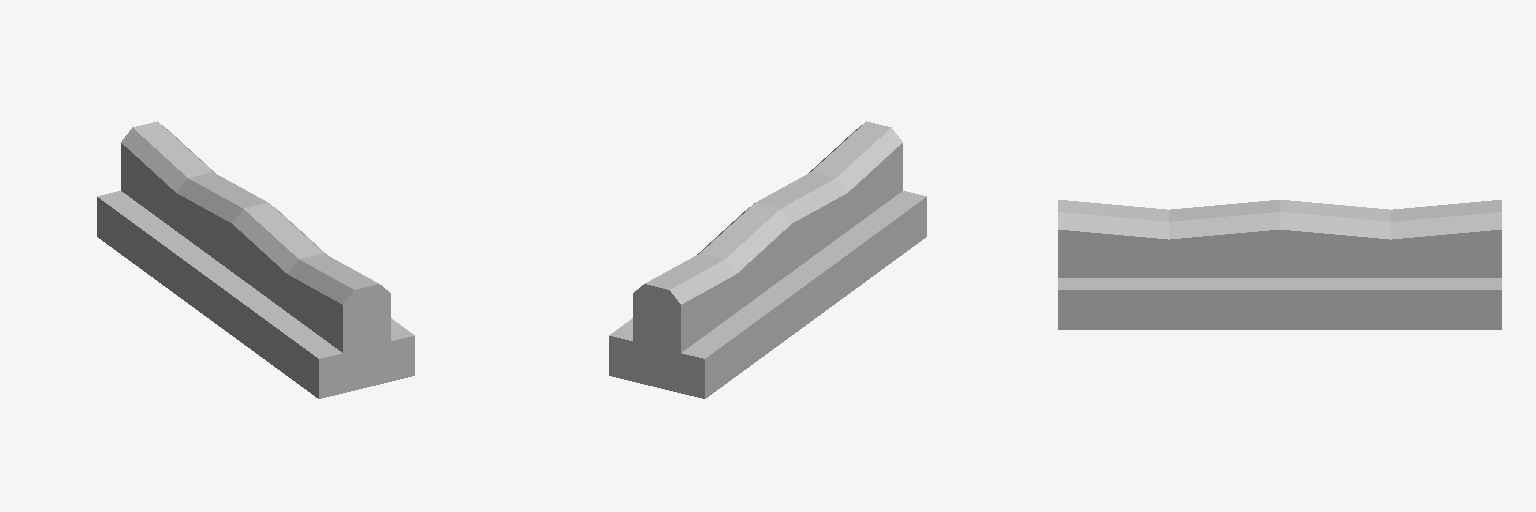
Rendered from hedge.obj.
3 renders of one model, left to right at view 1: azimuth 30°, elevation 25°; view 2: azimuth 150°, elevation 25°; view 3: azimuth 270°, elevation 25°, orthographic.
Visible parts, largest first — view 1: hedge; view 2: hedge; view 3: hedge.
Part boxes in pixels (bbox=[...]): hedge: bbox=[97, 121, 414, 398]; hedge: bbox=[609, 121, 926, 398]; hedge: bbox=[1058, 200, 1501, 329].
Size of the model in its own units: 0.25 by 0.25 by 1.